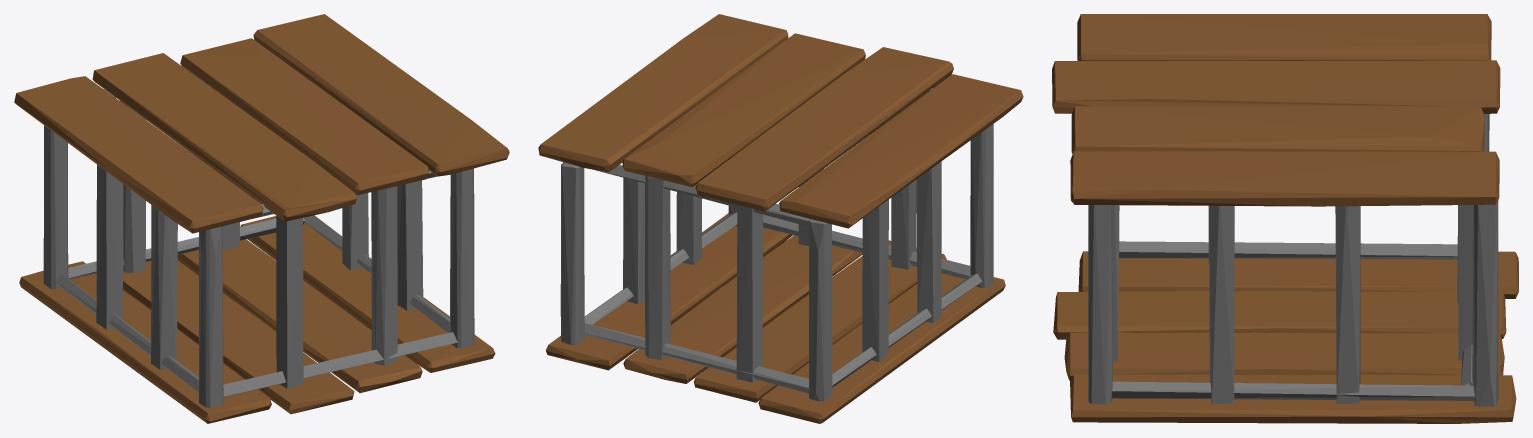
Rendered from LPCP_Cage15.fbx.
The picture shows the model from 3 angles, left to right: view 1: azimuth 30°, elevation 25°; view 2: azimuth 150°, elevation 25°; view 3: azimuth 270°, elevation 25°; orthographic projection. The views are drawn at different scales.
Parts seen in each view (by area): view 1: LPCP_Cage15; view 2: LPCP_Cage15; view 3: LPCP_Cage15.
Boxes of the visible parts, x1=… form: LPCP_Cage15: x1=14, y1=14, x2=509, y2=423; LPCP_Cage15: x1=538, y1=14, x2=1023, y2=423; LPCP_Cage15: x1=1052, y1=14, x2=1518, y2=423.
Bounding box in the file's own units: 1.56 × 0.9914 × 1.71.
